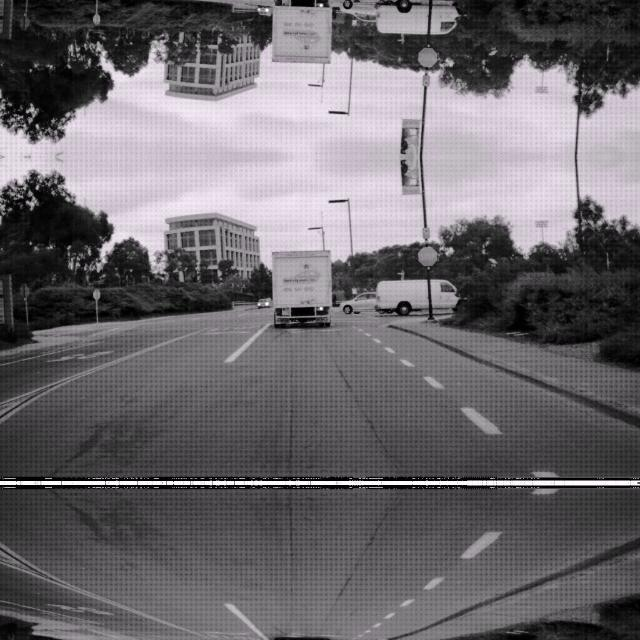stop: (417, 245, 437, 265), (417, 47, 437, 67)
